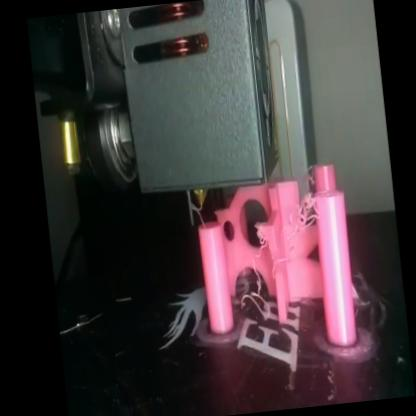fail: (247, 234, 273, 295), (288, 194, 320, 242)
